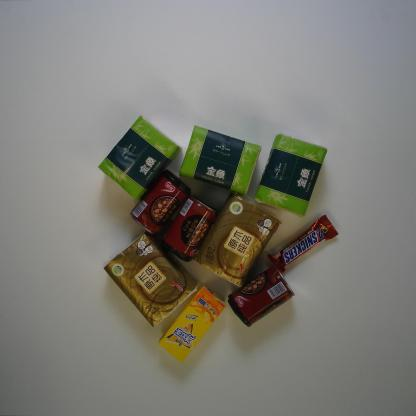Canned Food: (127, 167, 192, 237), (226, 265, 297, 328), (162, 196, 218, 263)
Chocolate: (266, 213, 340, 273)
Drink: (155, 284, 228, 363)
Tissue: (102, 228, 199, 328), (192, 191, 281, 291), (98, 114, 183, 202), (252, 132, 329, 218), (178, 124, 262, 196)
